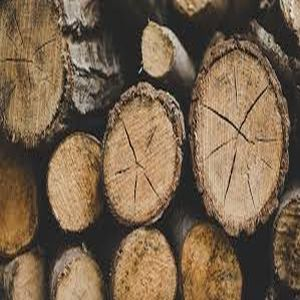log: (191, 41, 290, 237), (99, 82, 186, 229), (1, 1, 73, 151), (44, 131, 104, 235), (179, 221, 243, 300), (110, 225, 176, 300), (1, 156, 41, 254), (48, 249, 105, 300), (136, 22, 177, 80), (7, 251, 49, 300)
